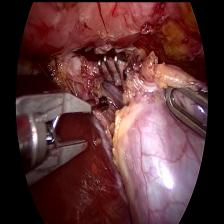Clipper: (14, 86, 92, 182)
Grasper: (163, 76, 215, 142)
